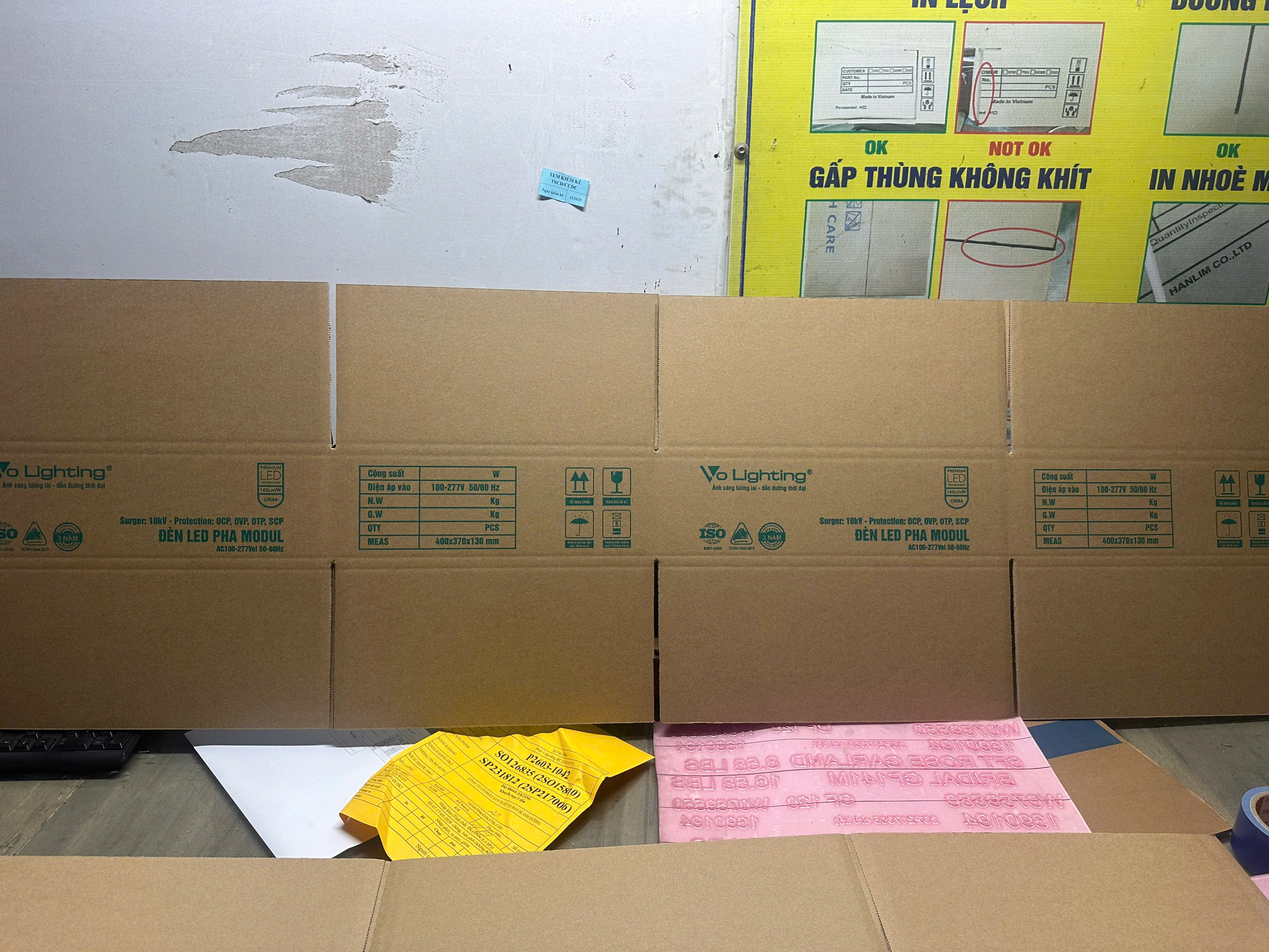box: (0, 279, 1269, 728)
